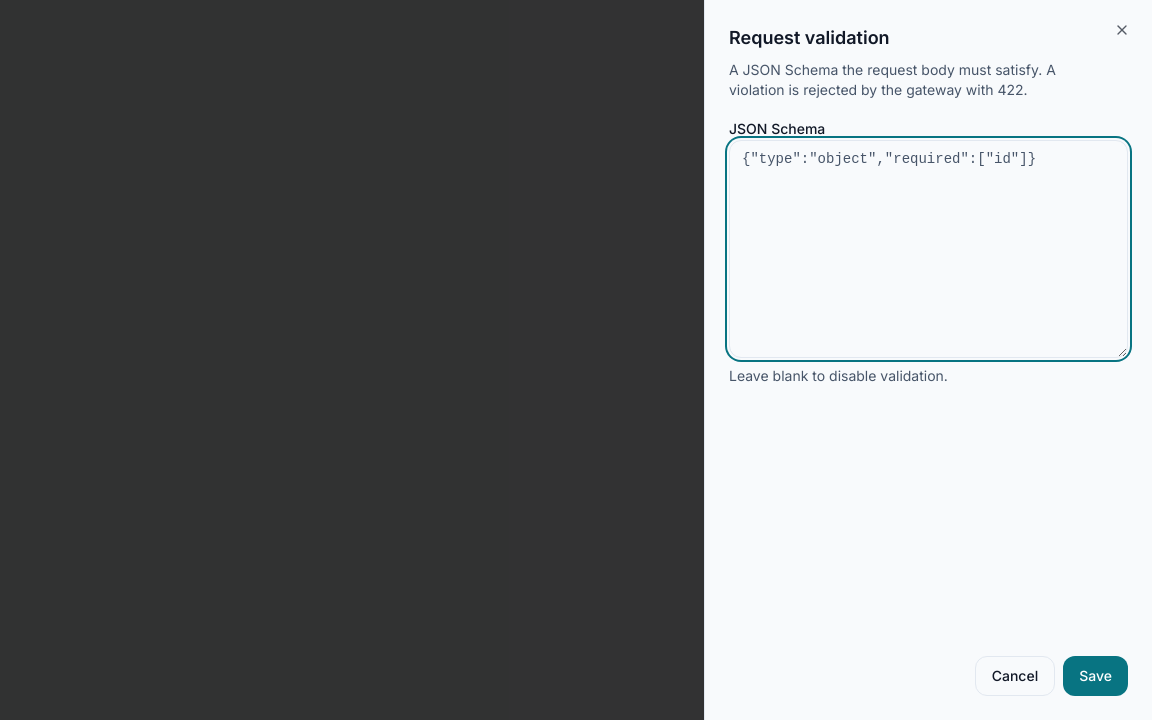
Test: RequestValidationSheet › rejects a JSON array — a schema must be an object
The width and height of the screenshot is (1152, 720).
Step 1. Type "[1,2]" into the text box labelled "JSON Schema" → (928, 249), box [729,140,1128,358]
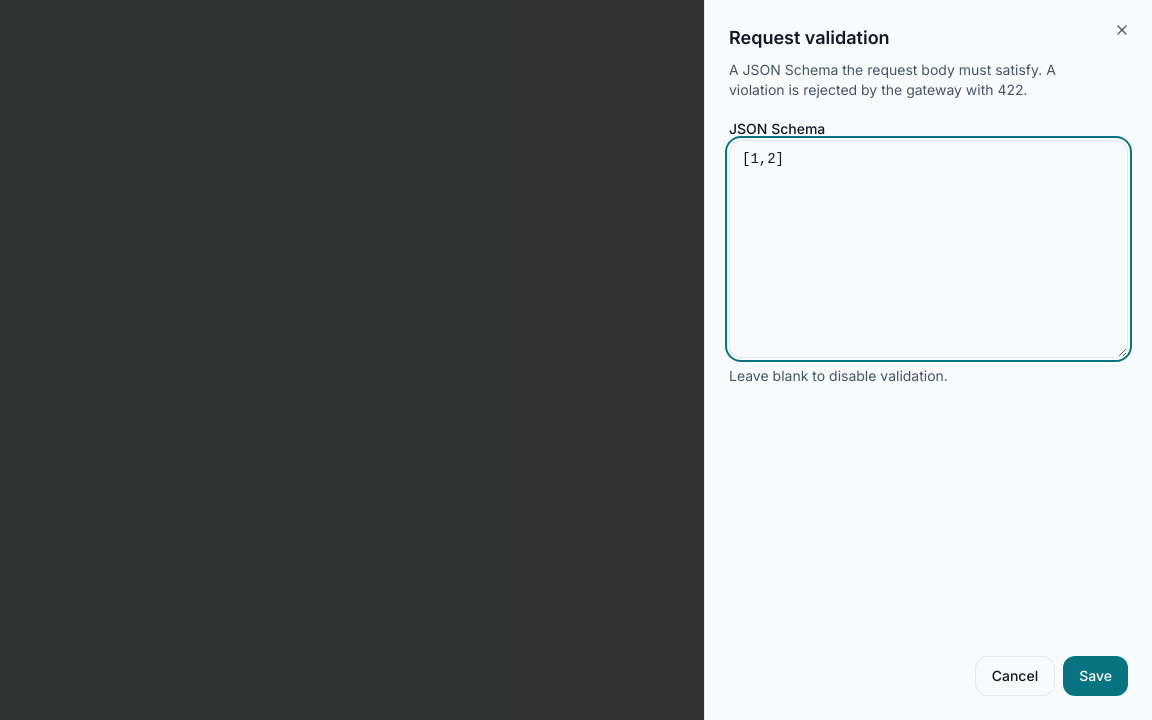
Step 2. Click the button "Save" → (1096, 676), box [1063,656,1128,696]
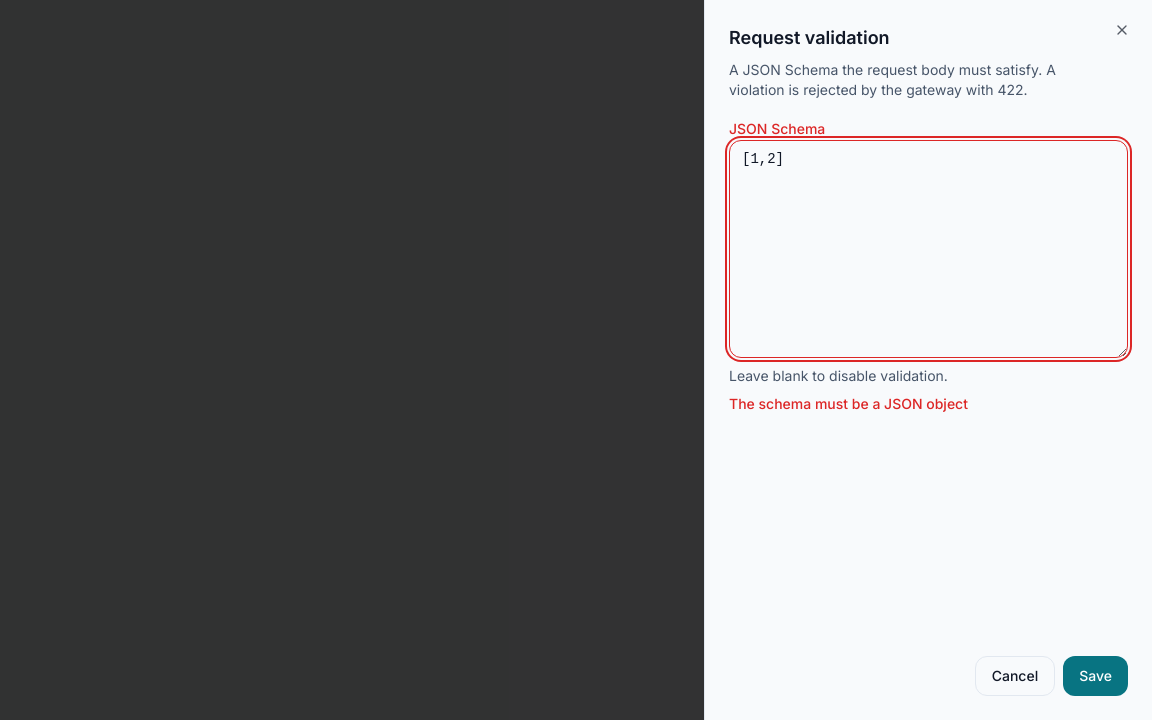
Now the text "The schema must be a JSON object" is shown, box [729,395,968,412]
